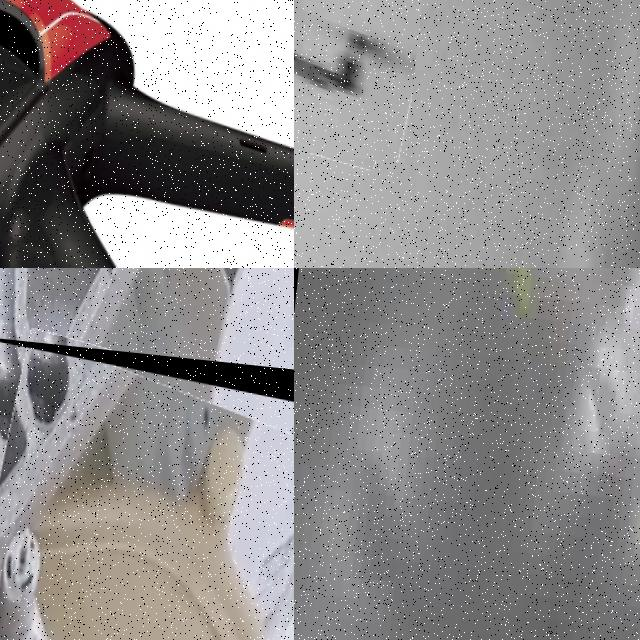drone: (0, 334, 294, 640), (0, 0, 294, 268), (294, 0, 432, 163)
